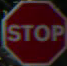Stop: (1, 11, 64, 56)
